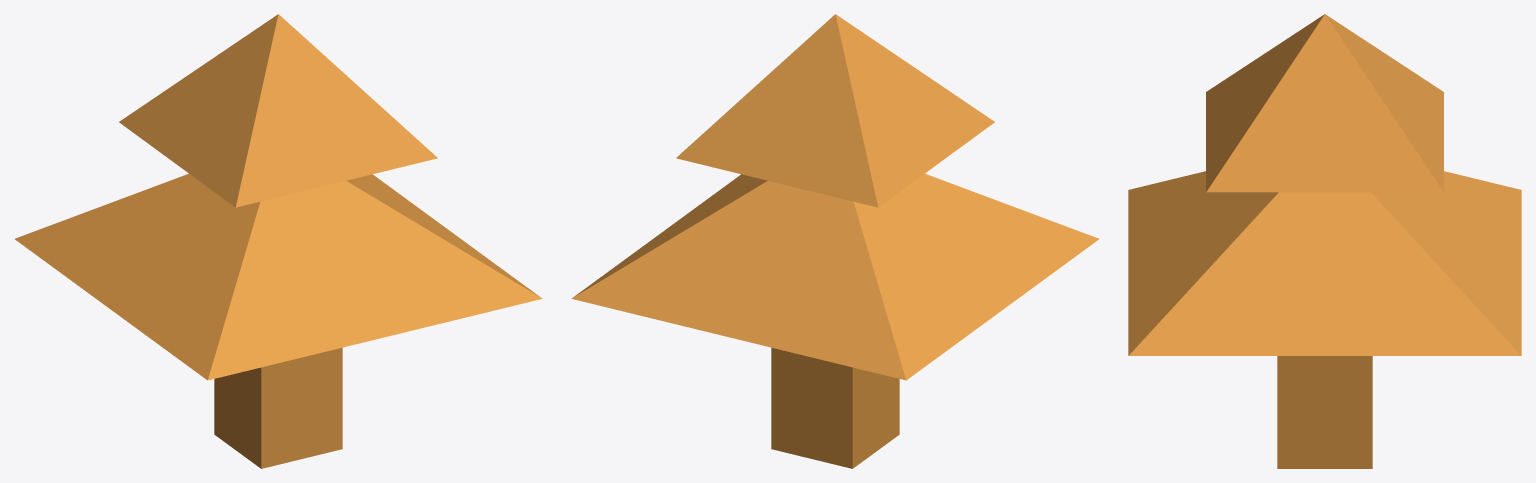
The model's file is Trees.glb.
The picture shows the model from 3 angles, left to right: view 1: azimuth 30°, elevation 25°; view 2: azimuth 150°, elevation 25°; view 3: azimuth 270°, elevation 25°; orthographic projection.
Parts seen in each view (by area): view 1: Tree1; view 2: Tree1; view 3: Tree1.
Boxes of the visible parts, box(x1,y1,x2,y2) form: Tree1: box(15, 14, 542, 468); Tree1: box(571, 14, 1098, 468); Tree1: box(1128, 14, 1521, 468).
Bounding box in the file's own units: 2.06 × 2.52 × 2.06.
